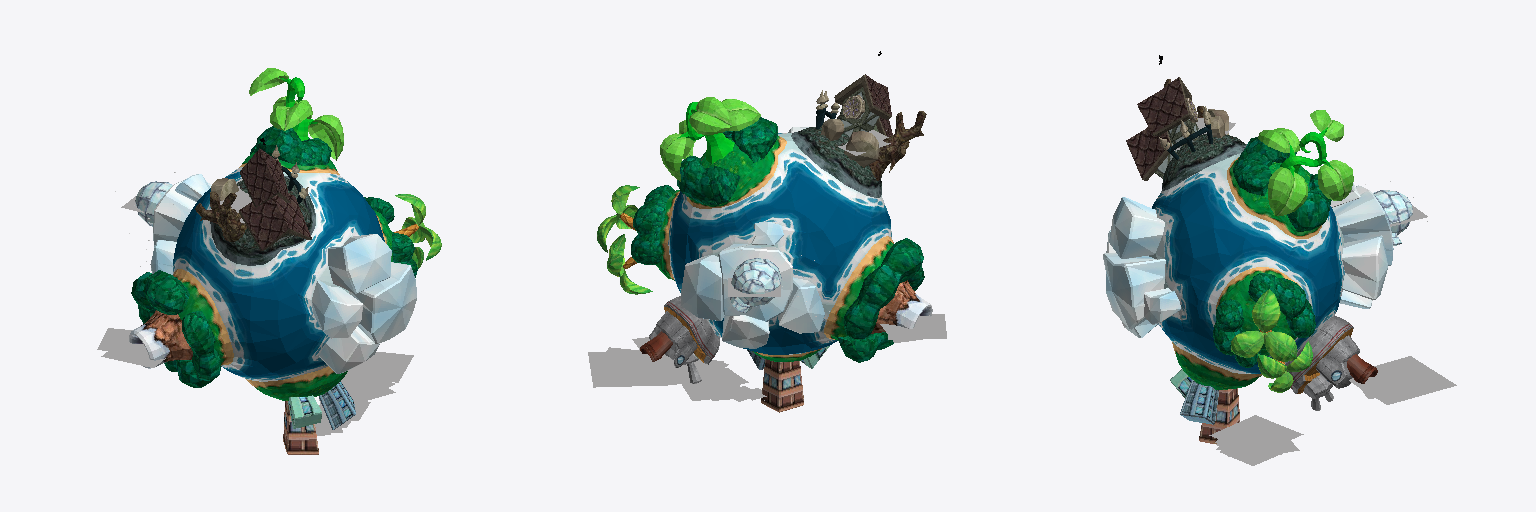
The picture shows the model from 3 angles: view 1: azimuth 30°, elevation 25°; view 2: azimuth 150°, elevation 25°; view 3: azimuth 270°, elevation 25°; orthographic projection.
Visible parts, largest first — view 1: Mesh75 Group1 Model, Mesh74 Group1 Model, Mesh27 Group1 Model, Mesh87 Group1 Model, Mesh97 Group1 Model, Mesh77 Group1 Model, Mesh94 Group1 Model, Mesh76 Group1 Model, Mesh105 Group1 Model, Mesh1 Group1 Model, Mesh95 Group1 Model, Mesh28 Group1 Model (+2 smaller); view 2: Mesh75 Group1 Model, Mesh74 Group1 Model, Mesh105 Group1 Model, Mesh97 Group1 Model, Mesh7 Group1 Model, Mesh87 Group1 Model, Mesh96 Group1 Model, Mesh6 Group1 Model, Mesh1 Group1 Model, Mesh104 Group1 Model, Mesh106 Group1 Model, Mesh93 Group1 Model (+3 smaller); view 3: Mesh75 Group1 Model, Mesh74 Group1 Model, Mesh27 Group1 Model, Mesh7 Group1 Model, Mesh94 Group1 Model, Mesh77 Group1 Model, Mesh93 Group1 Model, Mesh97 Group1 Model, Mesh105 Group1 Model, Mesh6 Group1 Model, Mesh101 Group1 Model, Mesh102 Group1 Model (+5 smaller).
Part boxes in pixels (x1,y1,x2,y2): Mesh75 Group1 Model: (129,126,418,400); Mesh74 Group1 Model: (239,148,311,250); Mesh27 Group1 Model: (345,352,413,382); Mesh87 Group1 Model: (195,192,246,241); Mesh97 Group1 Model: (283,401,318,454); Mesh77 Group1 Model: (319,381,355,429); Mesh94 Group1 Model: (307,115,343,160); Mesh76 Group1 Model: (288,395,321,428); Mesh105 Group1 Model: (135,181,172,226); Mesh1 Group1 Model: (97,328,147,354); Mesh95 Group1 Model: (270,102,311,130); Mesh28 Group1 Model: (341,377,394,403); Mesh75 Group1 Model: (620,117,932,367); Mesh74 Group1 Model: (834,74,892,136); Mesh105 Group1 Model: (730,258,781,312); Mesh97 Group1 Model: (761,359,803,412); Mesh7 Group1 Model: (594,347,670,380); Mesh87 Group1 Model: (869,111,926,180); Mesh96 Group1 Model: (689,97,731,134); Mesh6 Group1 Model: (588,351,676,387); Mesh1 Group1 Model: (880,315,944,342); Mesh104 Group1 Model: (686,102,734,163); Mesh106 Group1 Model: (844,131,879,167); Mesh93 Group1 Model: (660,132,690,181); Mesh75 Group1 Model: (1103,134,1393,393); Mesh74 Group1 Model: (1126,77,1198,180); Mesh27 Group1 Model: (1209,415,1303,454); Mesh7 Group1 Model: (1353,364,1431,398); Mesh94 Group1 Model: (1268,166,1307,215); Mesh77 Group1 Model: (1180,380,1218,424); Mesh93 Group1 Model: (1318,159,1353,200); Mesh97 Group1 Model: (1199,388,1239,443); Mesh105 Group1 Model: (1373,190,1412,245); Mesh6 Group1 Model: (1349,356,1456,404); Mesh101 Group1 Model: (1252,289,1280,332); Mesh102 Group1 Model: (1264,331,1297,361).
Size of the model in its own units: 7233 by 7179 by 6604.
Materials: 43 (33 with a texture image).